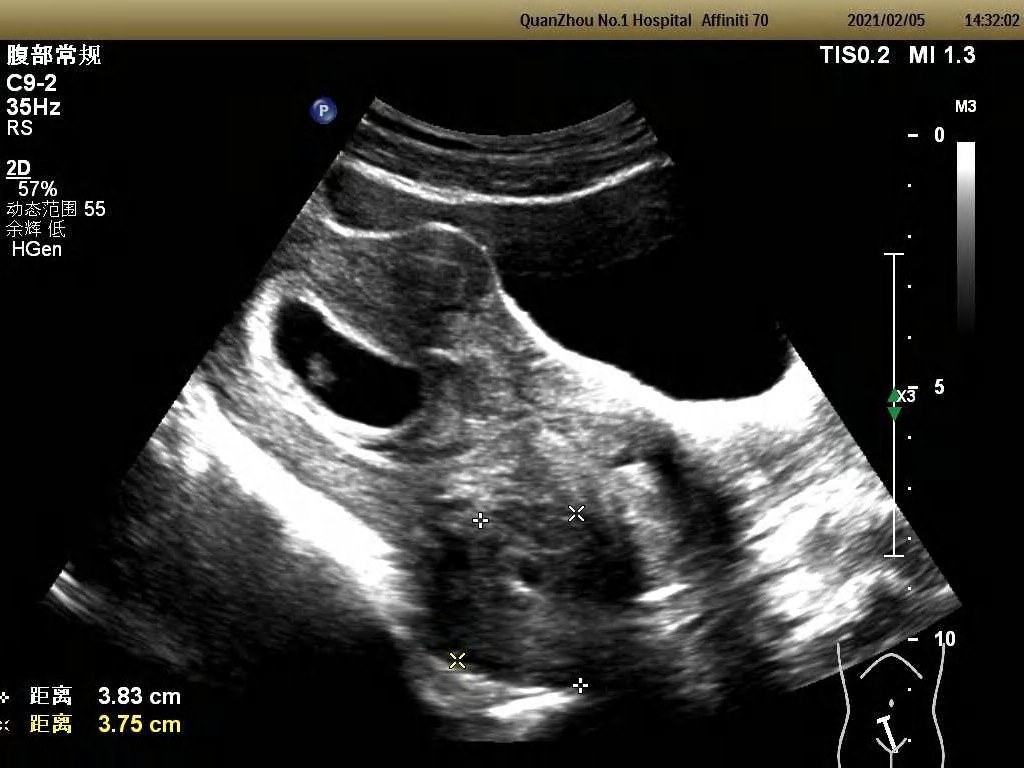肌瘤: (460, 515, 590, 680)
